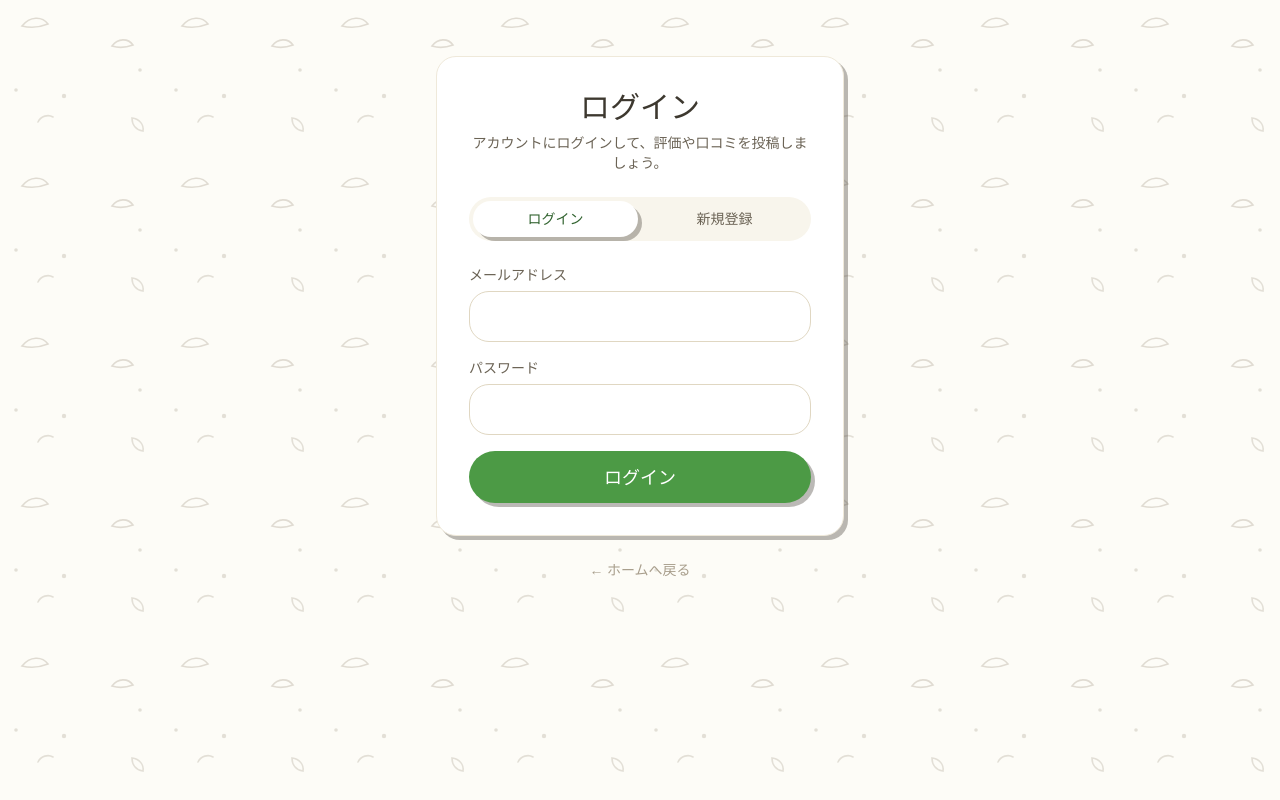
Scenario: LoginPage › falls back to a generic message when the failure is not from the API
The width and height of the screenshot is (1280, 800).
In the field labelled "メールアドレス": (640, 316) x1=469 y1=291 x2=811 y2=342, type "taro@example.com"
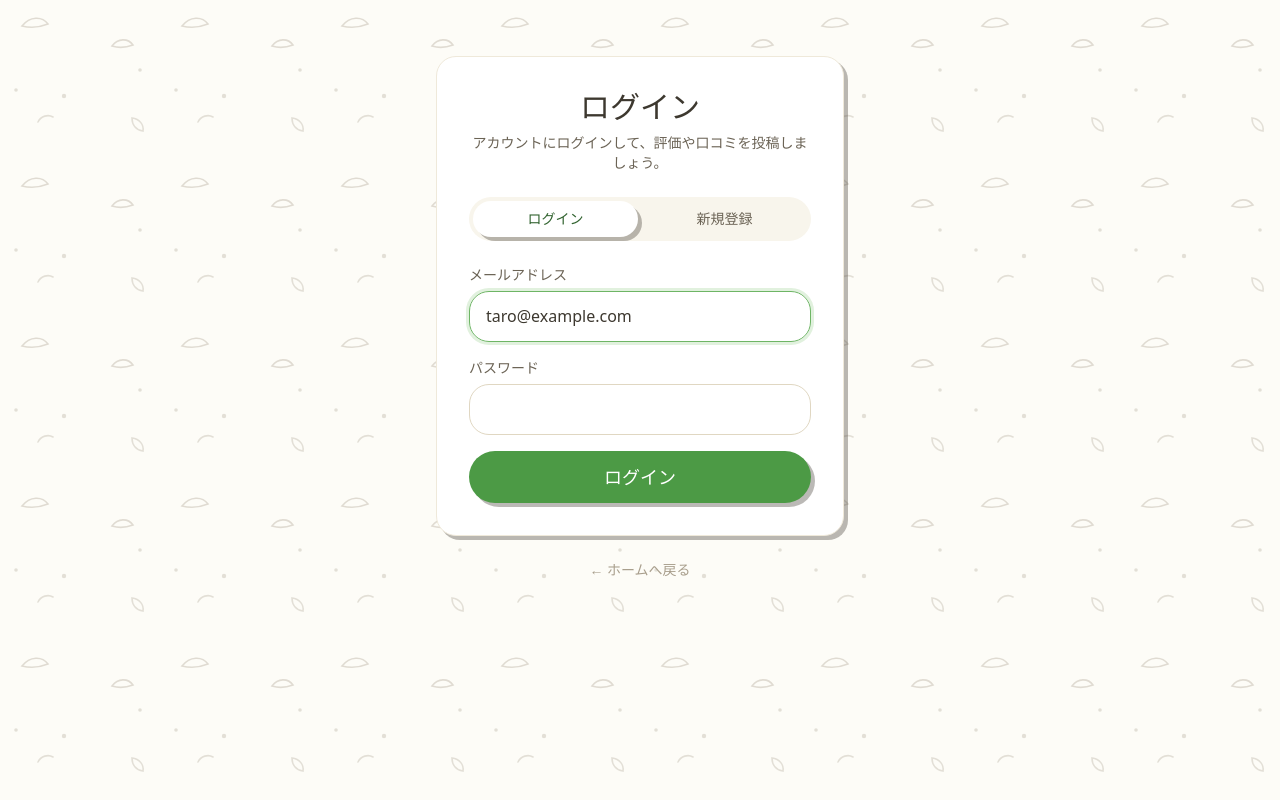
In the password field labelled "パスワード": (640, 409) x1=469 y1=384 x2=811 y2=435, type "whatever"
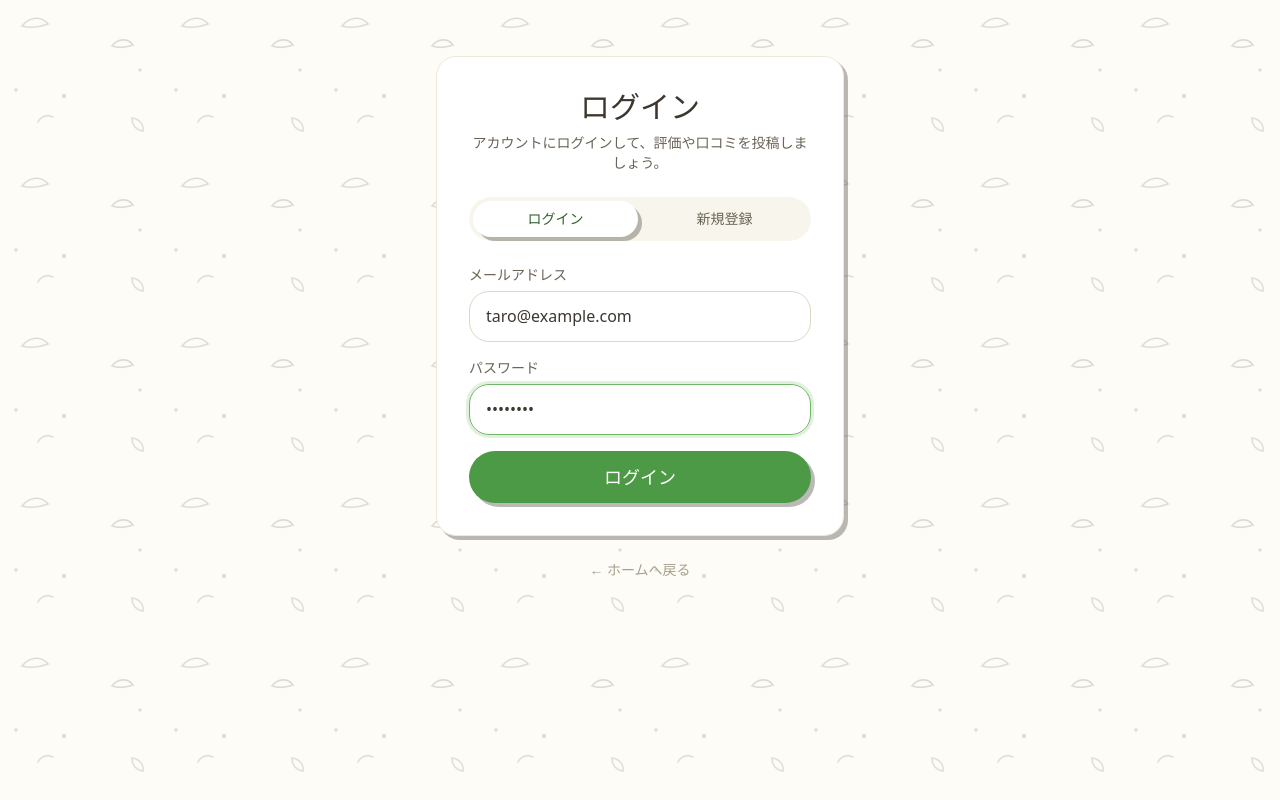
Click the button "ログイン": click(640, 477) x1=469 y1=451 x2=811 y2=503
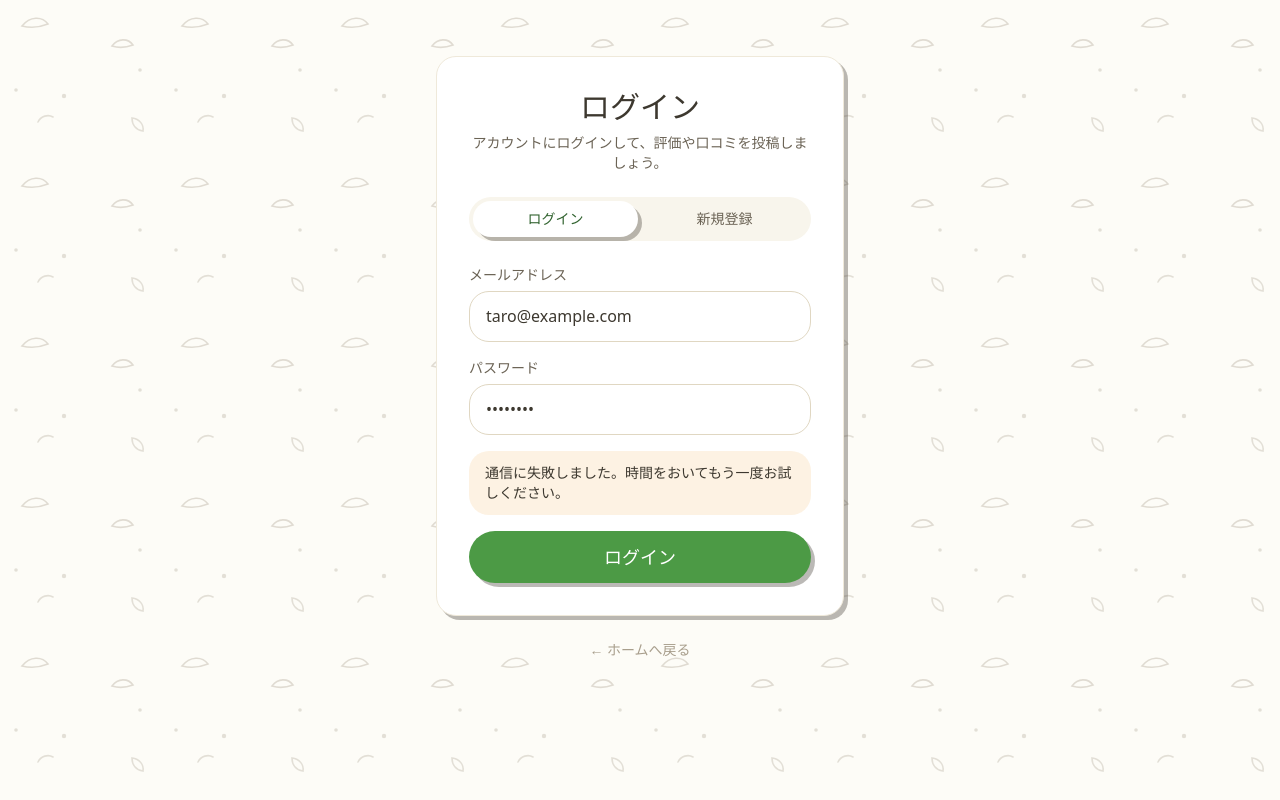
Expected: the message shows "通信に失敗しました", x1=485 y1=463 x2=792 y2=502
